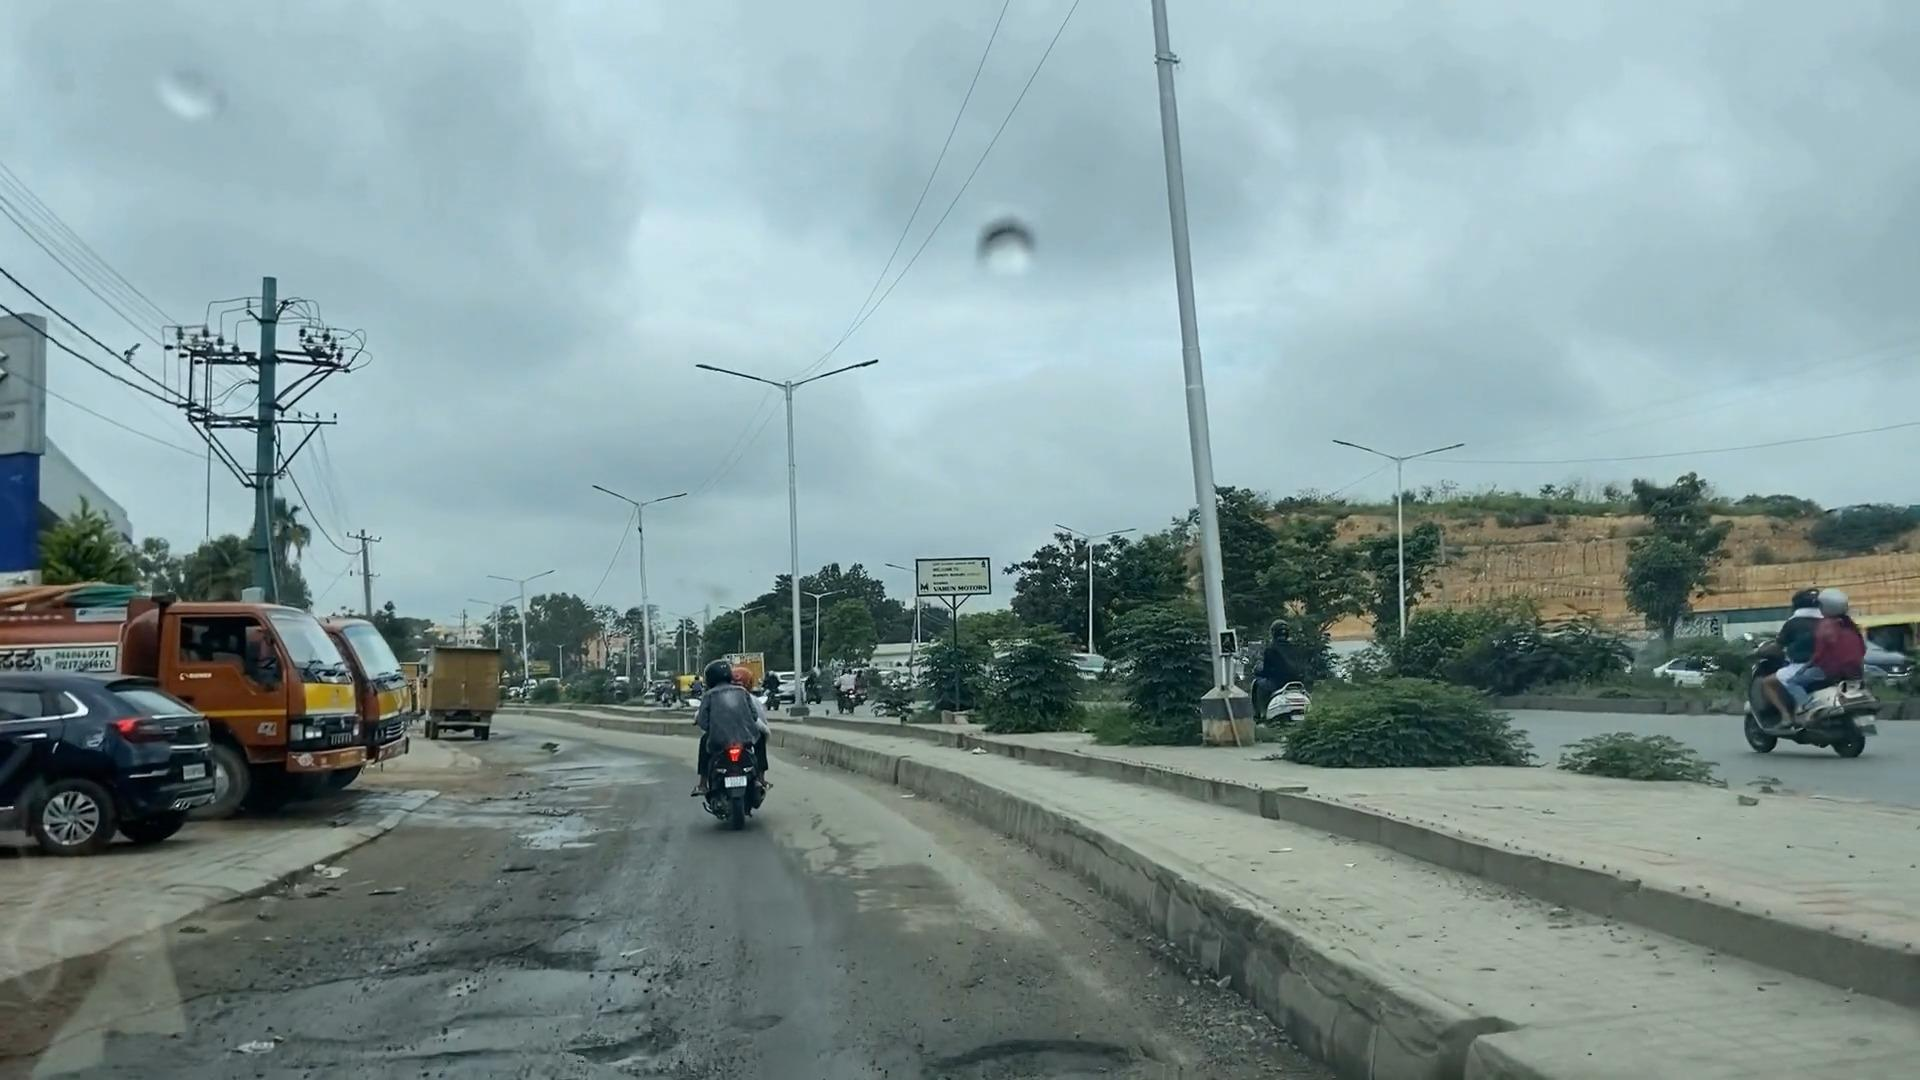LMV: (690, 659, 775, 823)
RoadDamages: (293, 916, 700, 1080), (907, 1017, 1138, 1080)
